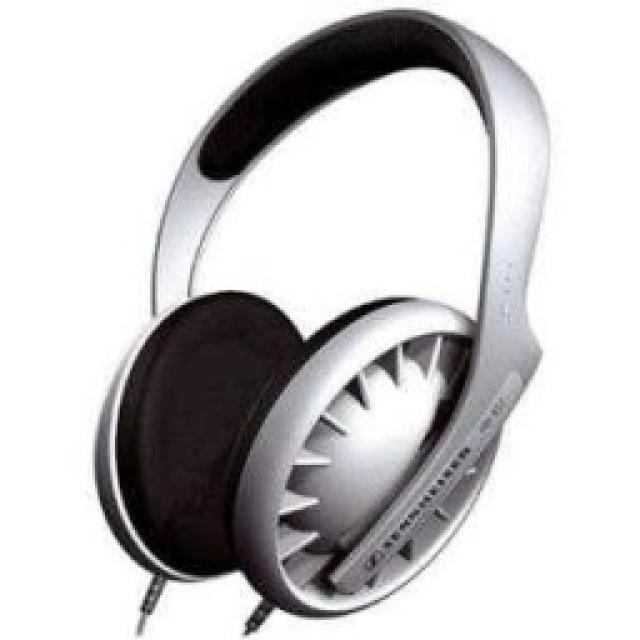headphones: (90, 5, 552, 625)
